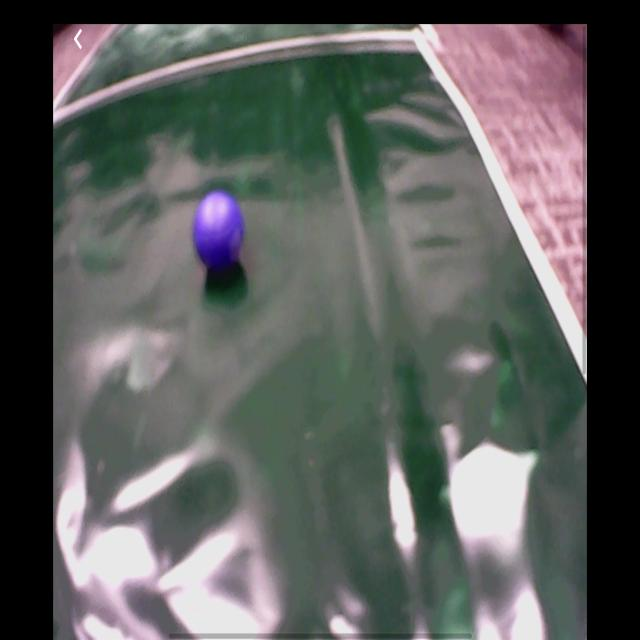ball: (193, 193, 246, 267)
